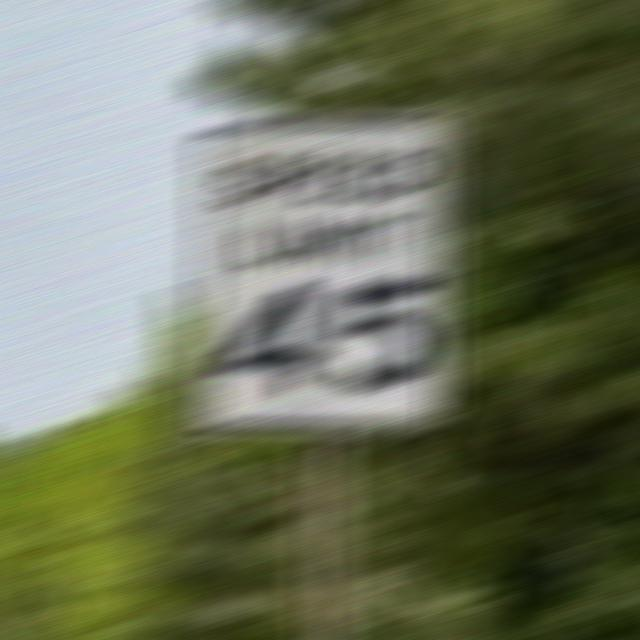speedLimit45: (202, 125, 447, 422)
